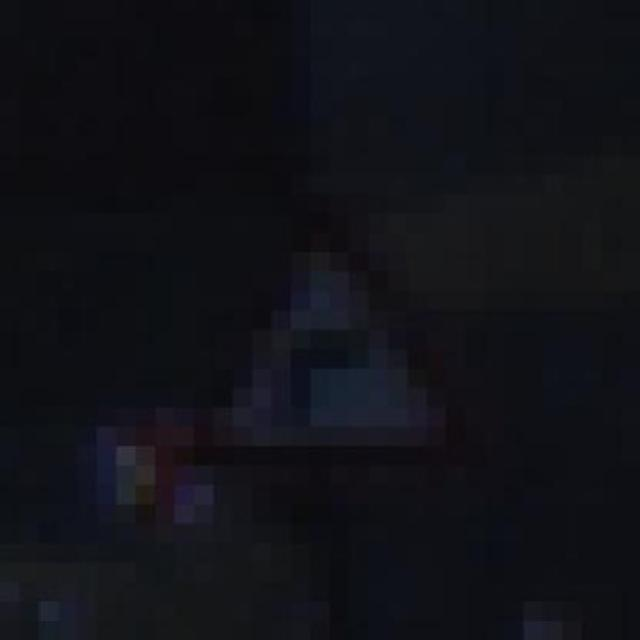Dangerous Rright Curve Ahead: (156, 193, 504, 484)
